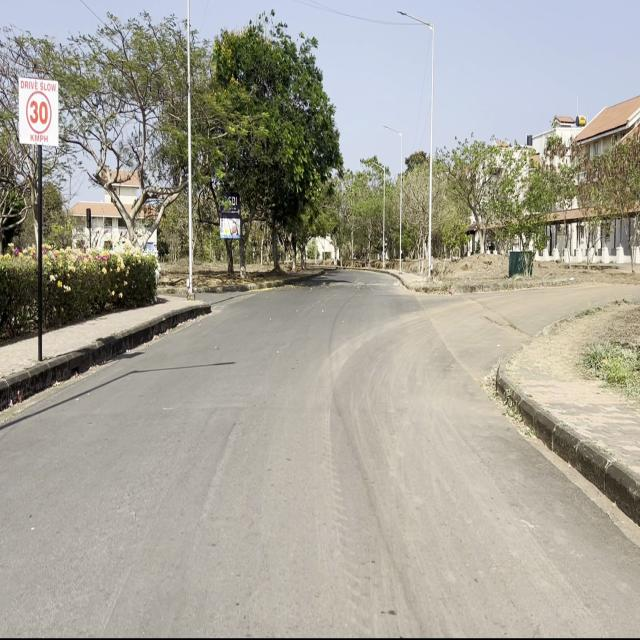Road: (2, 270, 632, 632)
